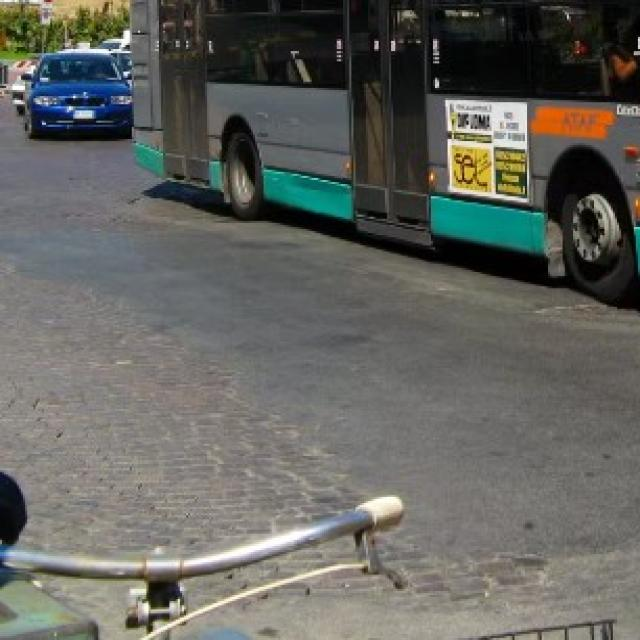bus: (123, 0, 640, 321)
car: (25, 48, 137, 139)
